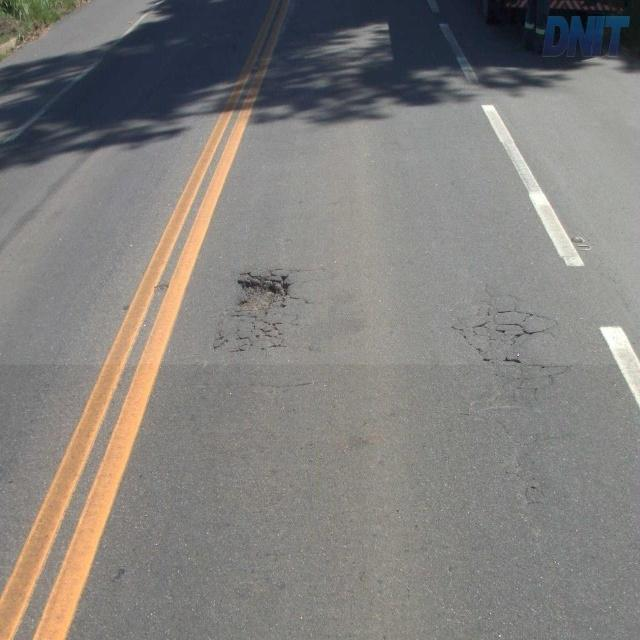pothole: (467, 304, 555, 368), (231, 270, 294, 317)
